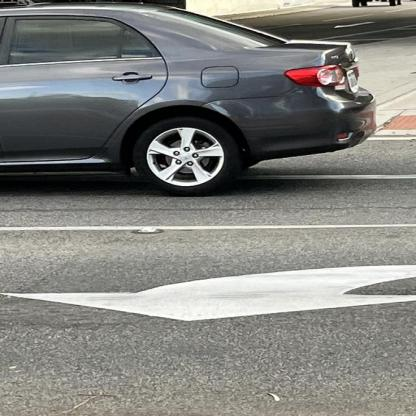Tire: (132, 116, 242, 198)
